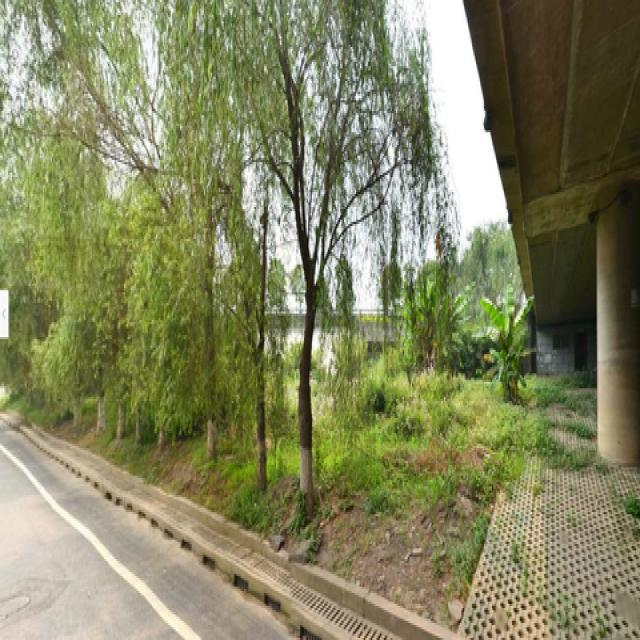plat: (260, 9, 365, 499), (155, 17, 240, 450)
